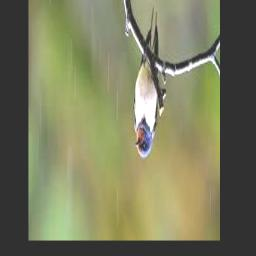Swallow: (133, 7, 159, 158)
